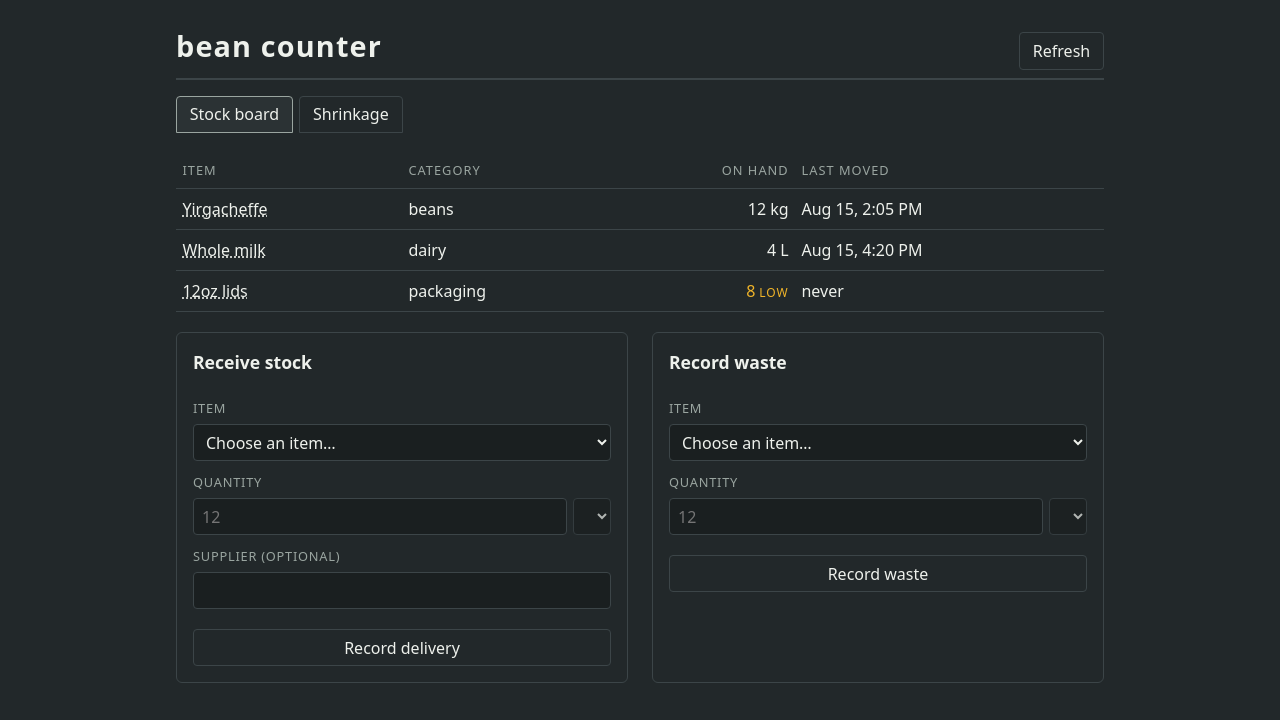
Scenario: movement forms › refuses a fractional each instead of rounding it
The image size is (1280, 720).
Expected: the button "Yirgacheffe" is shown, [182,197,268,221]
Select "12oz lids" in the 2nd dropdown labelled "Item" at point(878, 443), box [669,424,1087,461]
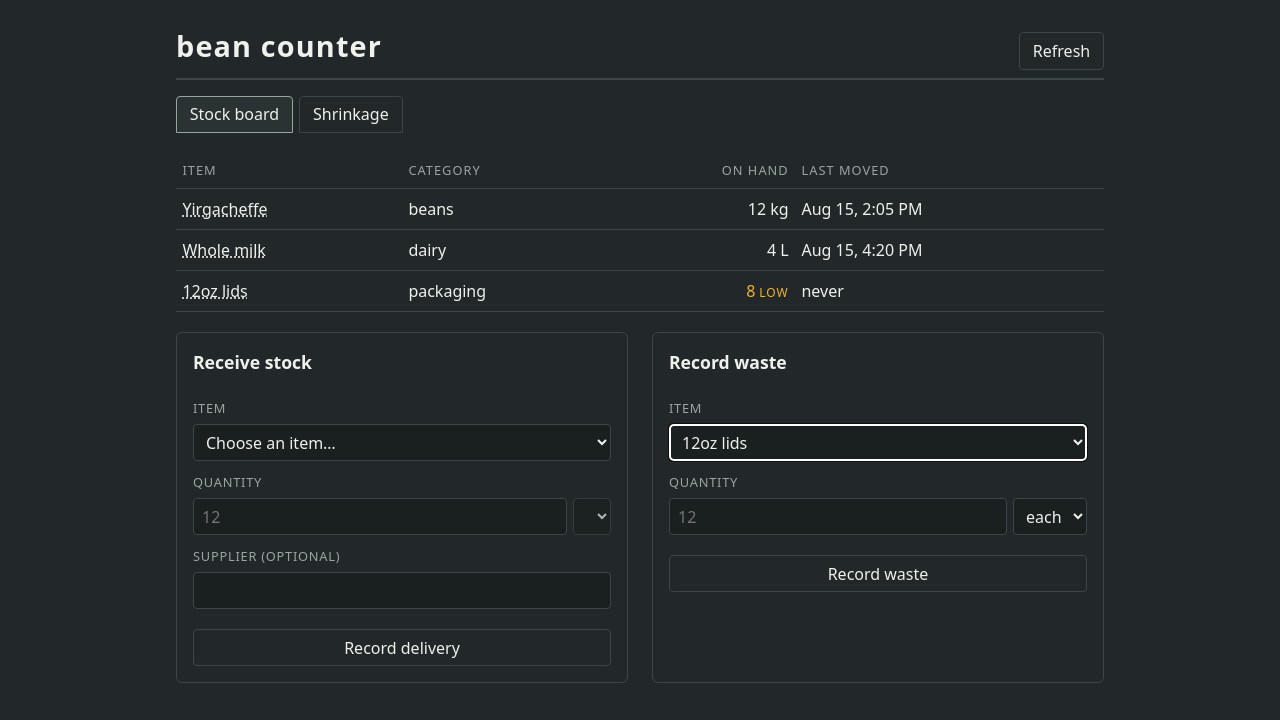
Type "0.5" into the 2nd field labelled "Quantity" at point(838, 517), box [669,498,1007,535]
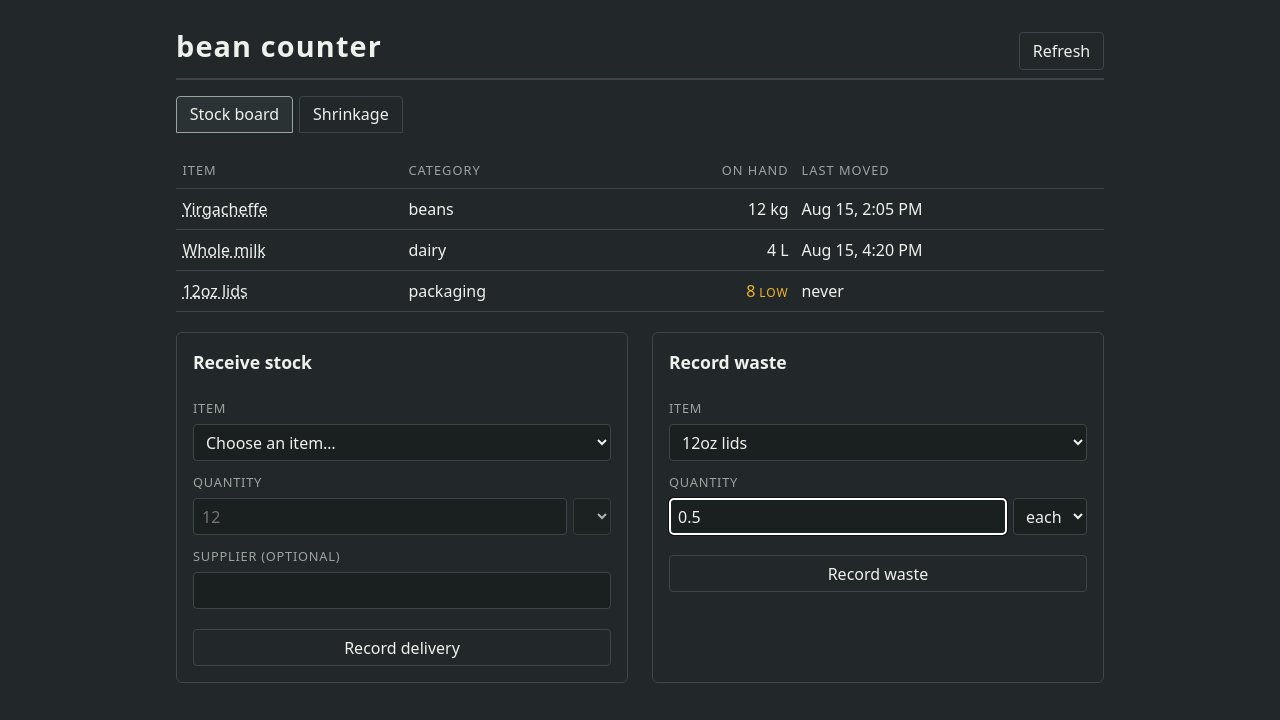
Click the button "Record waste" at point(878, 574), box [669,555,1087,592]
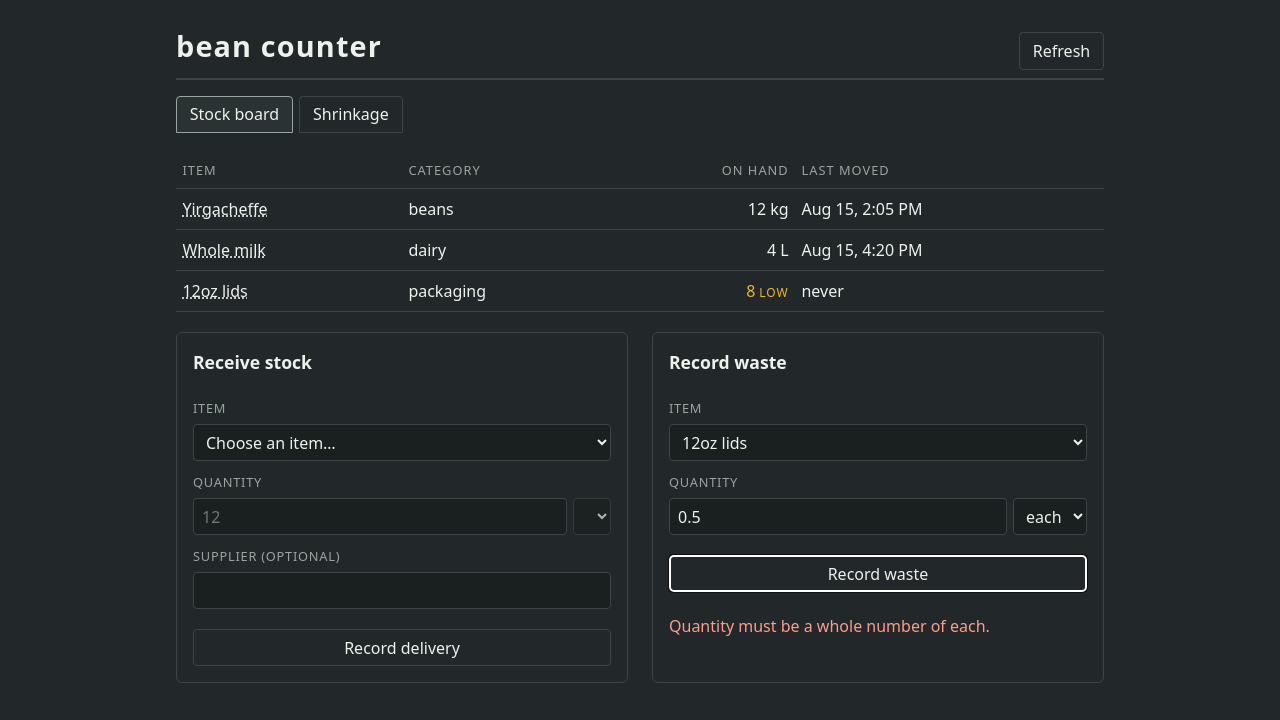
Now the message shows "whole number of each", box [669,615,990,637]
